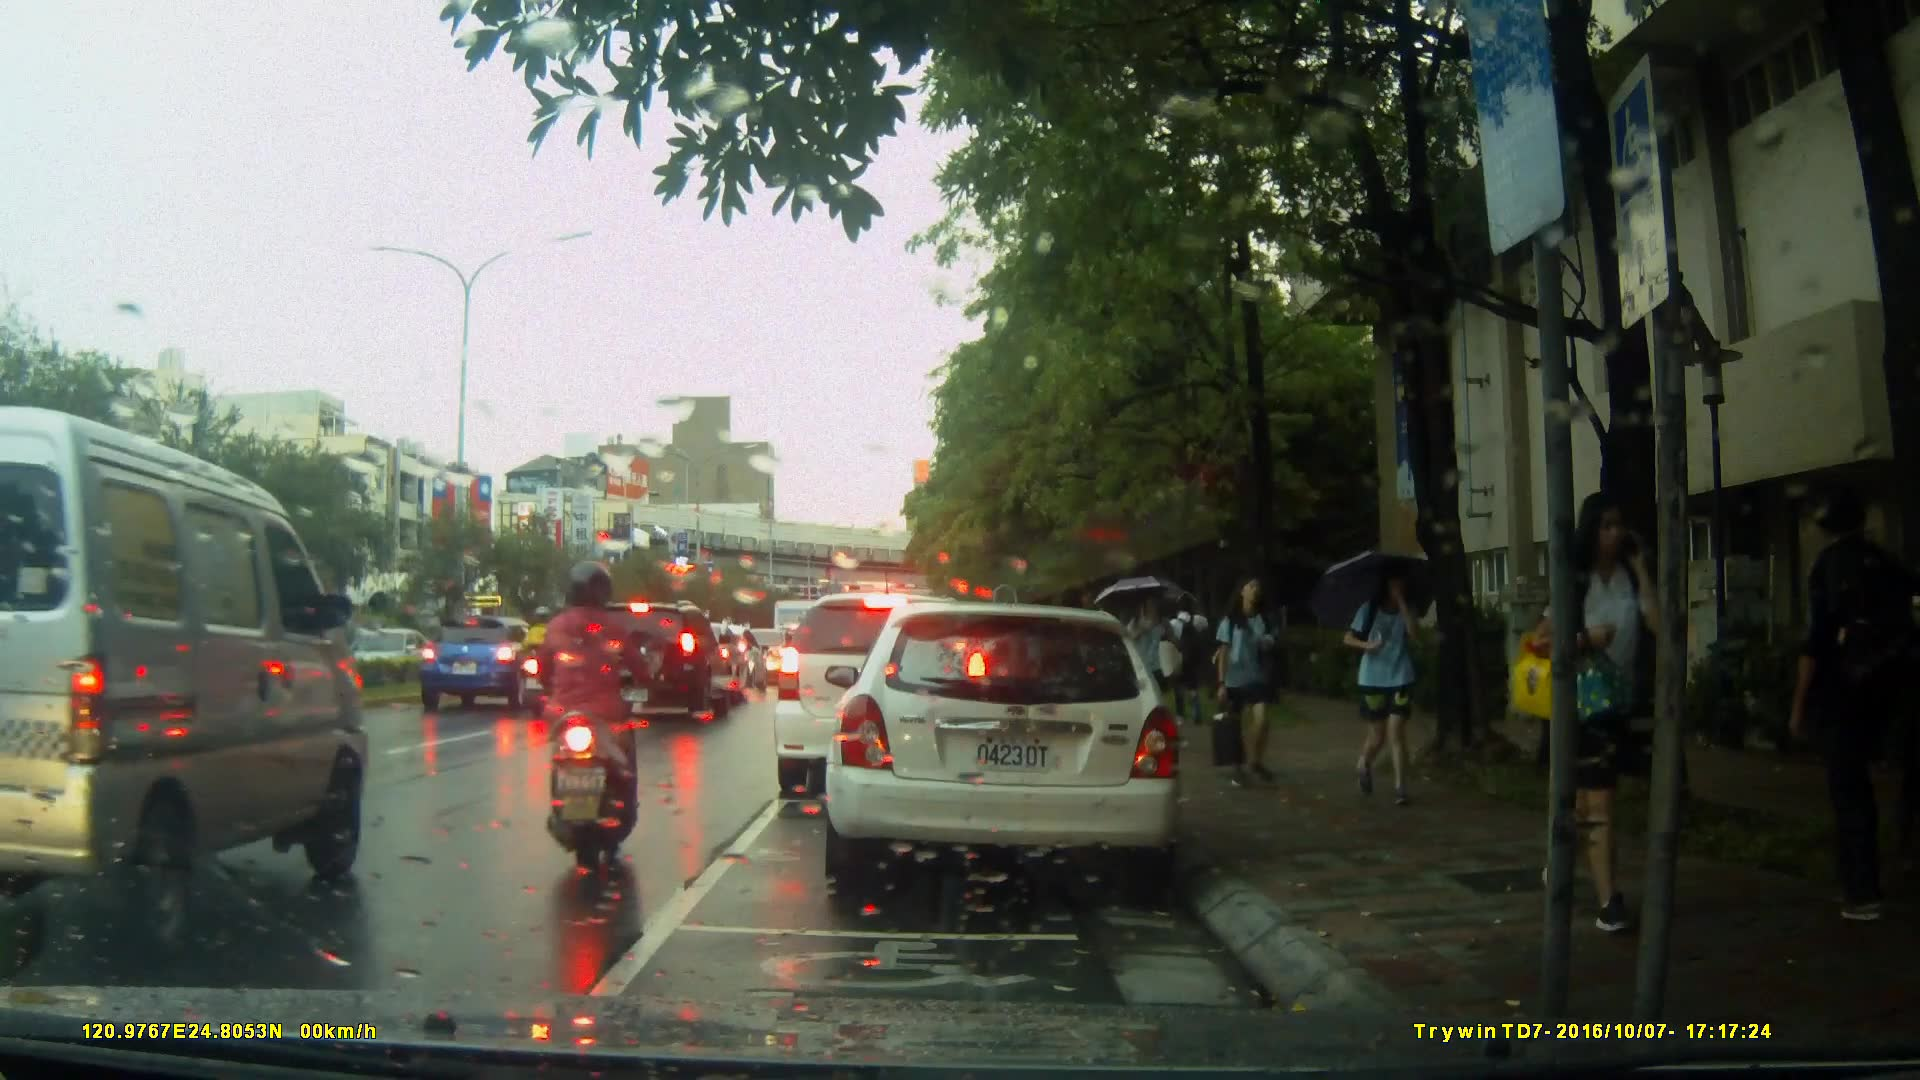pedestrian: (1546, 476, 1675, 921), (1797, 486, 1892, 924), (1334, 552, 1423, 809), (1185, 562, 1270, 776)
rider: (518, 552, 635, 876), (525, 606, 570, 705)
vehicle: (1, 406, 374, 958), (815, 593, 1204, 909), (771, 590, 994, 802), (572, 601, 736, 725), (419, 617, 562, 710)
